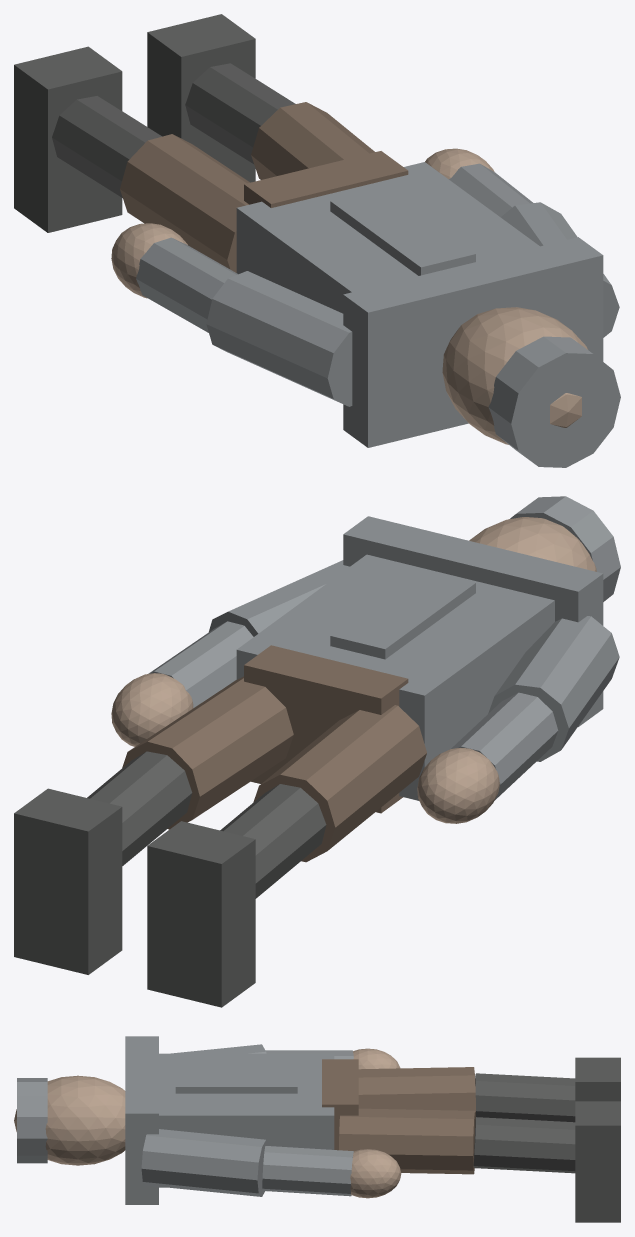
File: SM_CharacterGuard_Preview.glb
3 views of the same model, one above another, from view 1: azimuth 30°, elevation 25°; view 2: azimuth 150°, elevation 25°; view 3: azimuth 270°, elevation 25° (orthographic). The views are drawn at different scales.
Visible parts, largest first — view 1: Guard_segment_16, Guard_segment_00, Guard_segment_06, Guard_segment_07, Guard_segment_02, Guard_segment_04, Guard_segment_12, Guard_segment_01, Guard_segment_17, Guard_segment_05, Guard_segment_11, Guard_segment_10 (+6 smaller); view 2: Guard_segment_00, Guard_segment_06, Guard_segment_12, Guard_segment_04, Guard_segment_10, Guard_segment_16, Guard_segment_03, Guard_segment_07, Guard_segment_17, Guard_segment_05, Guard_segment_11, Guard_segment_08 (+6 smaller); view 3: Guard_segment_00, Guard_segment_10, Guard_segment_13, Guard_segment_01, Guard_segment_12, Guard_segment_11, Guard_segment_04, Guard_segment_16, Guard_segment_05, Guard_segment_14, Guard_segment_17, Guard_segment_02 (+6 smaller).
Part boxes in pixels (left/top/right/bottom): Guard_segment_16: left=343, top=237, right=603, bottom=447; Guard_segment_00: left=236, top=162, right=539, bottom=313; Guard_segment_06: left=14, top=46, right=122, bottom=232; Guard_segment_07: left=206, top=271, right=352, bottom=406; Guard_segment_02: left=488, top=336, right=620, bottom=467; Guard_segment_04: left=120, top=134, right=249, bottom=272; Guard_segment_12: left=147, top=14, right=255, bottom=182; Guard_segment_01: left=442, top=307, right=587, bottom=444; Guard_segment_17: left=330, top=188, right=475, bottom=275; Guard_segment_05: left=52, top=96, right=161, bottom=197; Guard_segment_11: left=185, top=63, right=295, bottom=163; Guard_segment_10: left=251, top=102, right=374, bottom=179; Guard_segment_00: left=236, top=554, right=554, bottom=800; Guard_segment_06: left=147, top=821, right=255, bottom=1007; Guard_segment_12: left=14, top=788, right=122, bottom=974; Guard_segment_04: left=253, top=705, right=426, bottom=862; Guard_segment_10: left=122, top=676, right=293, bottom=829; Guard_segment_16: left=343, top=516, right=603, bottom=726; Guard_segment_03: left=244, top=645, right=408, bottom=813; Guard_segment_07: left=488, top=616, right=619, bottom=761; Guard_segment_17: left=330, top=569, right=475, bottom=659; Guard_segment_05: left=220, top=784, right=326, bottom=898; Guard_segment_11: left=87, top=751, right=192, bottom=865; Guard_segment_08: left=451, top=692, right=558, bottom=800; Guard_segment_00: left=159, top=1053, right=334, bottom=1187; Guard_segment_10: left=339, top=1108, right=475, bottom=1174; Guard_segment_13: left=141, top=1129, right=269, bottom=1196; Guard_segment_01: left=14, top=1075, right=125, bottom=1165; Guard_segment_12: left=575, top=1101, right=620, bottom=1222; Guard_segment_11: left=473, top=1117, right=575, bottom=1173; Guard_segment_04: left=358, top=1067, right=475, bottom=1117; Guard_segment_16: left=125, top=1036, right=158, bottom=1204; Guard_segment_05: left=475, top=1073, right=575, bottom=1122; Guard_segment_14: left=262, top=1146, right=353, bottom=1196; Guard_segment_17: left=175, top=1068, right=297, bottom=1093; Guard_segment_02: left=17, top=1078, right=47, bottom=1163.
Bounding box in the file's own units: 0.95 × 0.41 × 1.99.
